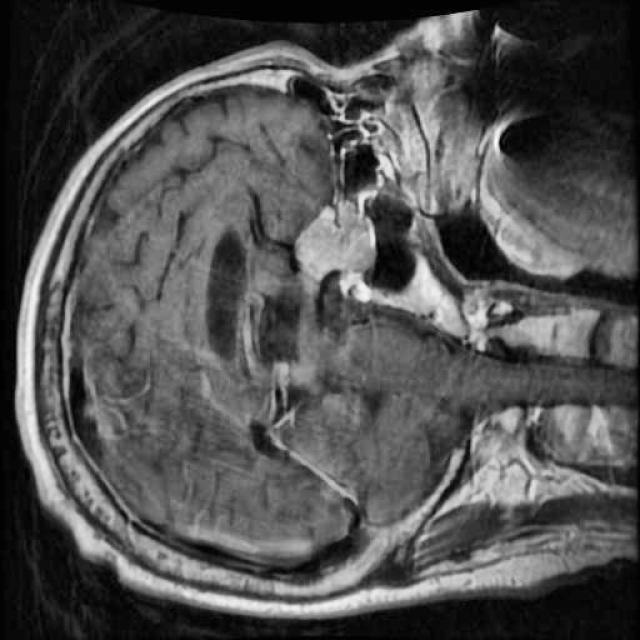Tumor: (288, 189, 389, 298)
